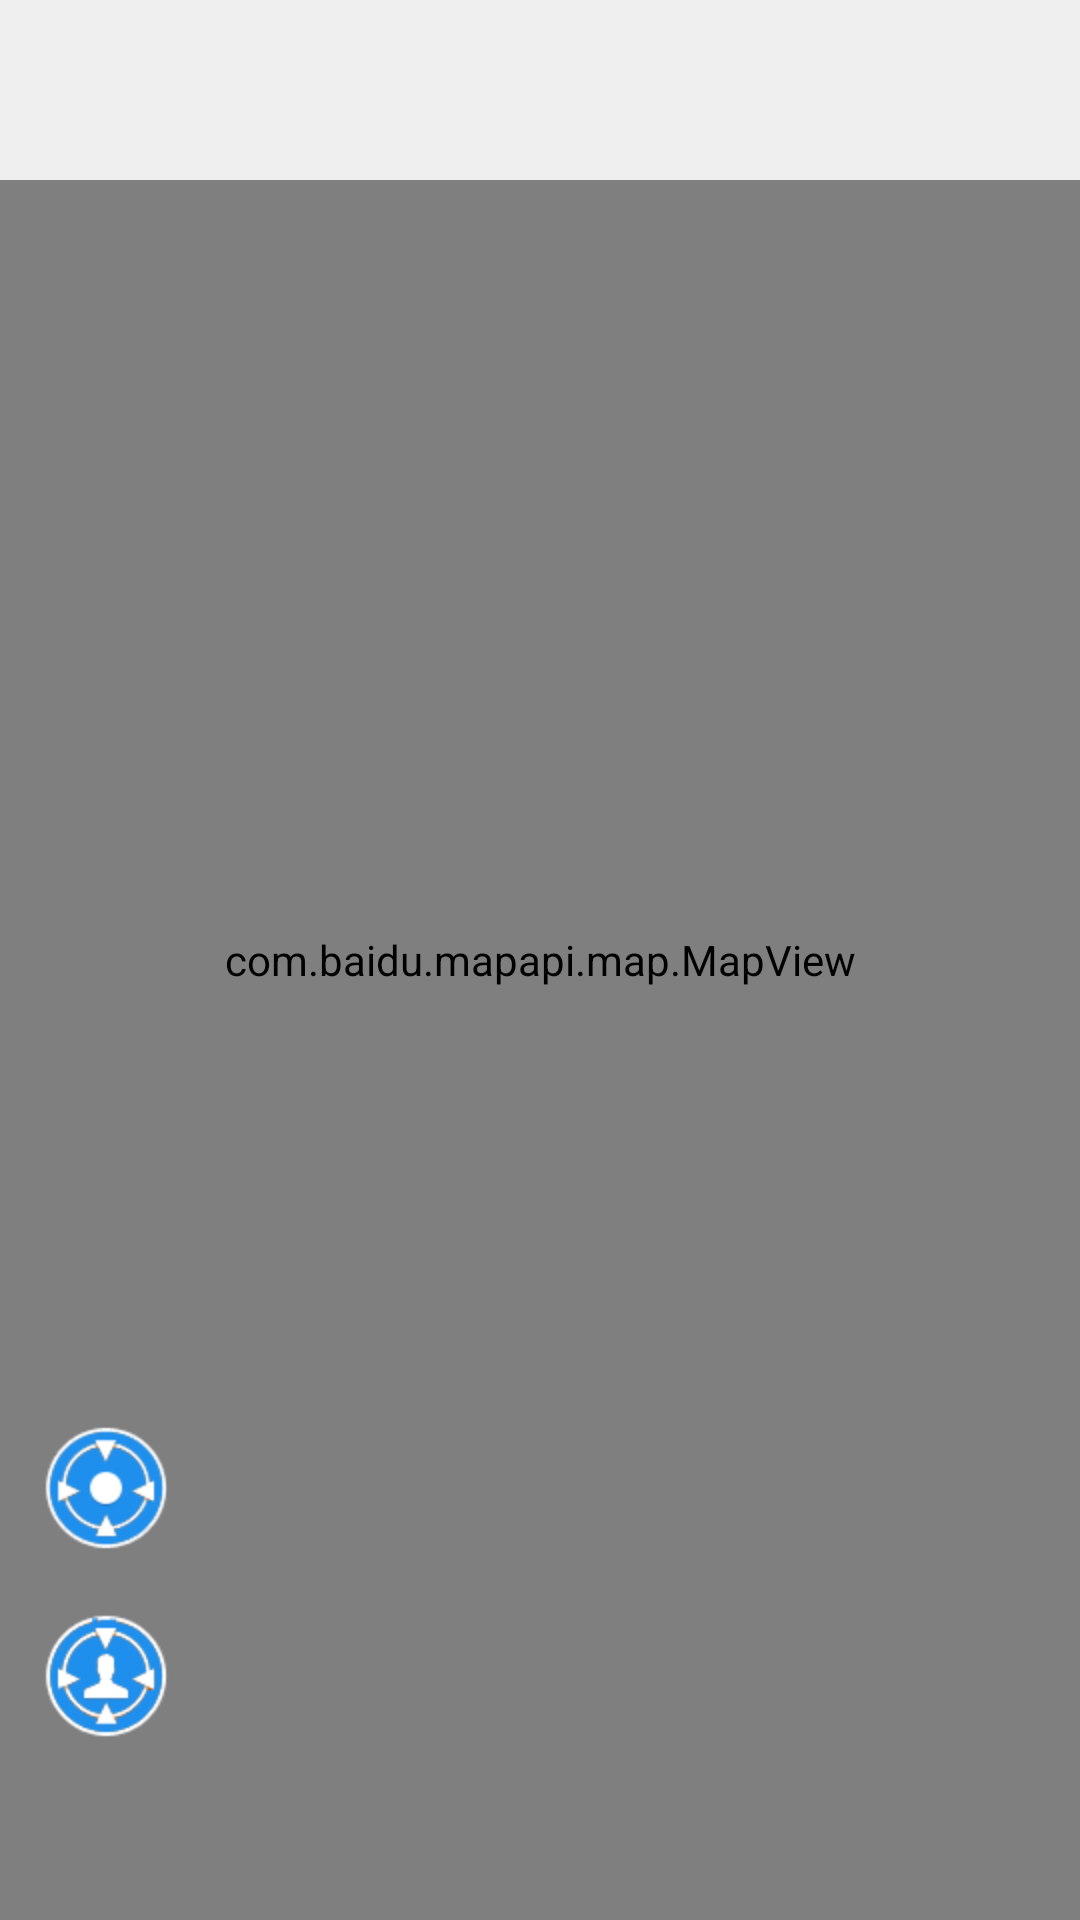

Named icons in this screenshot (1080x1920) and their bounding boxes, detection(x1, y1, x2, y2):
carlocation bottom: detection(45, 1427, 167, 1549)
mylocation bottom: detection(45, 1615, 167, 1737)
